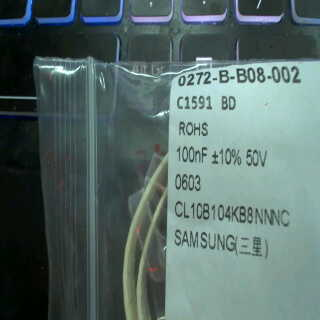100nF: (175, 144, 211, 168)
